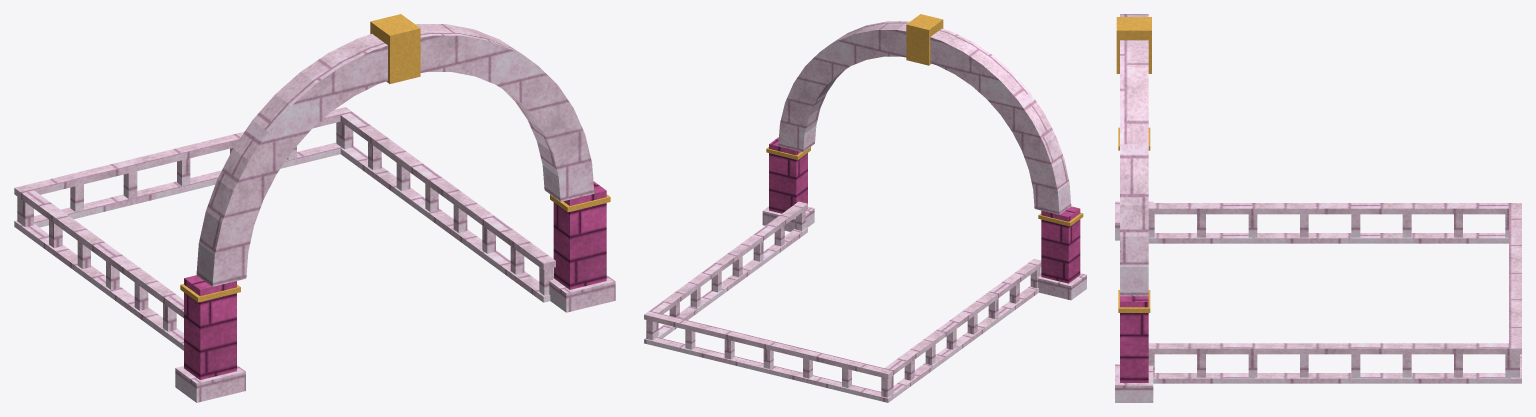
Rendered from citadel_cellar_stair.glb.
3 renders of one model, left to right at view 1: azimuth 30°, elevation 25°; view 2: azimuth 150°, elevation 25°; view 3: azimuth 270°, elevation 25°, orthographic. The views are drawn at different scales.
Visible parts, largest first — view 1: stair_Citadel_Limestone, stair_Citadel_Stone, stair_Citadel_Gold; view 2: stair_Citadel_Limestone, stair_Citadel_Stone, stair_Citadel_Gold; view 3: stair_Citadel_Limestone, stair_Citadel_Stone, stair_Citadel_Gold.
Boxes of the visible parts, box(x1,y1,x2,y2) form: stair_Citadel_Limestone: box(14, 24, 615, 402); stair_Citadel_Stone: box(184, 181, 606, 379); stair_Citadel_Gold: box(180, 14, 610, 302); stair_Citadel_Limestone: box(644, 21, 1086, 402); stair_Citadel_Stone: box(769, 137, 1080, 283); stair_Citadel_Gold: box(766, 14, 1083, 226); stair_Citadel_Limestone: box(1115, 14, 1521, 402); stair_Citadel_Stone: box(1120, 296, 1148, 382); stair_Citadel_Gold: box(1116, 17, 1151, 312).
Bounding box in the file's own units: 13.6 × 9.9 × 12.71.
3 materials, 3 textured.
